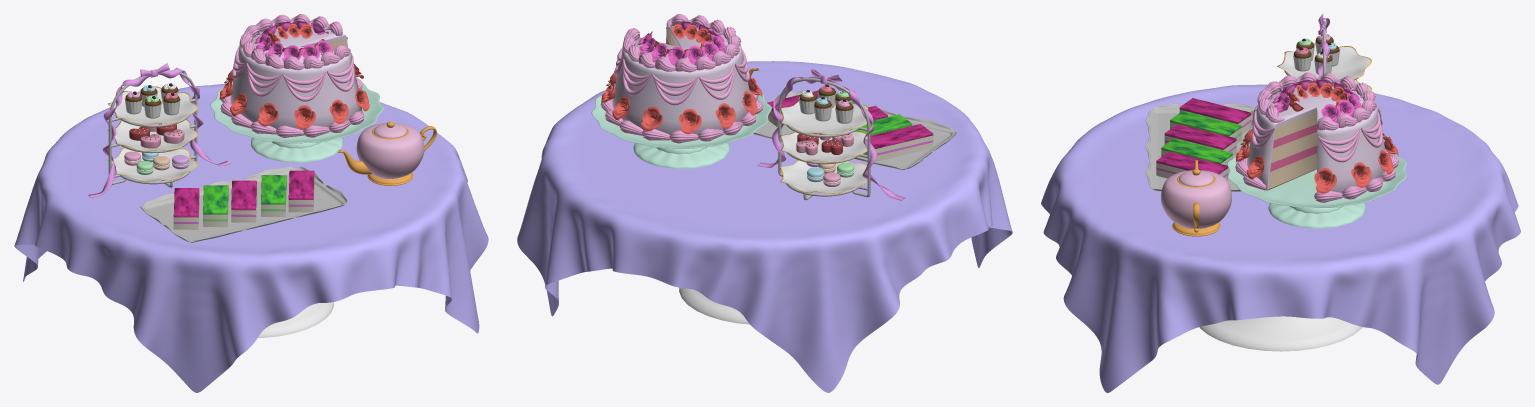
Rendered from sweets.fbx.
3 renders of one model, left to right at view 1: azimuth 30°, elevation 25°; view 2: azimuth 150°, elevation 25°; view 3: azimuth 270°, elevation 25°, orthographic. The views are drawn at different scales.
Parts seen in each view (by area): view 1: TableCloth, WholeCake, Tray, CakeStand, Pot, WholeCakeCream.001, WholeCakeRose, WholeCakeDeco, Ribbon, WholeCakeCream, WholeCakeRose.001, AfternoonDish.001 (+10 smaller); view 2: TableCloth, WholeCake, CakeStand, WholeCakeCream.001, WholeCakeRose, WholeCakeDeco, Tray, WholeCakeCream, Cake.001, Ribbon, AfternoonTeaStand, AfternoonDish.003 (+6 smaller); view 3: TableCloth, WholeCake, CakeStand, Table, Pot, WholeCakeCream.001, Tray, WholeCakeRose, WholeCakeDeco, AfternoonDish.003, WholeCakeCream, WholeCakeRose.001 (+6 smaller).
Boxes of the visible parts, left/top/right/bottom form: TableCloth: left=14, top=83, right=488, bottom=392; WholeCake: left=230, top=26, right=362, bottom=130; Tray: left=140, top=166, right=347, bottom=242; CakeStand: left=210, top=82, right=383, bottom=162; Pot: left=356, top=121, right=424, bottom=185; WholeCakeCream.001: left=239, top=14, right=350, bottom=70; WholeCakeRose: left=219, top=64, right=369, bottom=129; WholeCakeDeco: left=232, top=37, right=354, bottom=101; Ribbon: left=88, top=63, right=230, bottom=197; WholeCakeCream: left=220, top=78, right=364, bottom=137; WholeCakeRose.001: left=254, top=21, right=332, bottom=61; AfternoonDish.001: left=107, top=147, right=198, bottom=181; TableCloth: left=517, top=61, right=1012, bottom=392; WholeCake: left=612, top=25, right=749, bottom=134; CakeStand: left=591, top=85, right=771, bottom=168; WholeCakeCream.001: left=622, top=14, right=741, bottom=72; WholeCakeRose: left=601, top=73, right=762, bottom=134; WholeCakeDeco: left=614, top=27, right=749, bottom=105; Tray: left=753, top=91, right=956, bottom=169; WholeCakeCream: left=600, top=85, right=763, bottom=143; Cake.001: left=863, top=124, right=933, bottom=161; Ribbon: left=757, top=68, right=905, bottom=200; AfternoonTeaStand: left=778, top=78, right=870, bottom=197; AfternoonDish.003: left=780, top=100, right=868, bottom=134; TableCloth: left=1041, top=84, right=1520, bottom=392; WholeCake: left=1247, top=86, right=1385, bottom=192; CakeStand: left=1227, top=146, right=1407, bottom=228; Table: left=1199, top=316, right=1362, bottom=351; Pot: left=1161, top=169, right=1231, bottom=236; WholeCakeCream.001: left=1257, top=72, right=1376, bottom=130; Tray: left=1145, top=103, right=1254, bottom=191; WholeCakeRose: left=1236, top=129, right=1398, bottom=193; WholeCakeDeco: left=1251, top=106, right=1382, bottom=162; AfternoonDish.003: left=1277, top=43, right=1371, bottom=80; WholeCakeCream: left=1235, top=143, right=1398, bottom=202; WholeCakeRose.001: left=1272, top=79, right=1361, bottom=122.
Bounding box in the file's own units: 315 × 187 × 314.
Materials: 39 (2 with a texture image).
